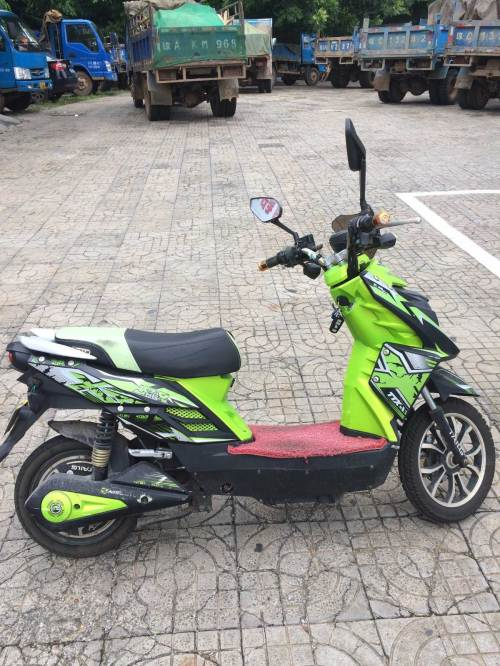电动车: (1, 113, 498, 564)
